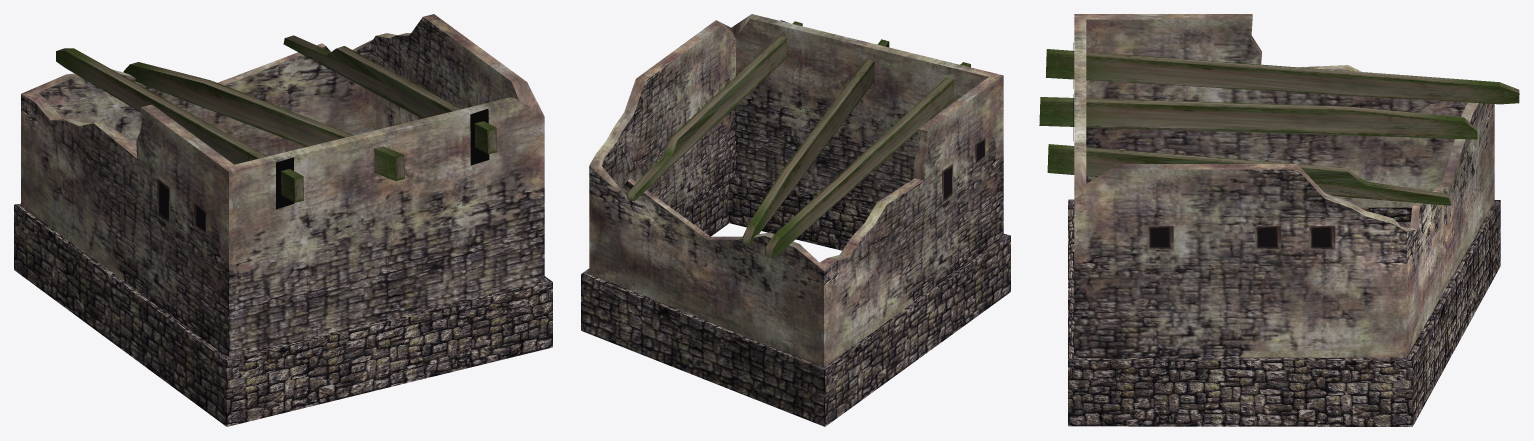
Rendered from fort_eitc_annex_1_burned.fbx.
The picture shows the model from 3 angles, left to right: view 1: azimuth 30°, elevation 25°; view 2: azimuth 150°, elevation 25°; view 3: azimuth 270°, elevation 25°; orthographic projection. The views are drawn at different scales.
Parts seen in each view (by area): view 1: shell, shell1, beam_8, beam_9, beam_7, beam_drop_shadow2, window33, beam_drop_shadow3; view 2: shell, shell1, beam_9, beam_7, beam_8, window33; view 3: shell, shell1, beam_8, beam_9, beam_7, window29, window31, window30.
Boxes of the visible parts, <box> form: shell: <box>14,14,552,426</box>; shell1: <box>38,17,518,156</box>; beam_8: <box>123,62,404,180</box>; beam_9: <box>56,48,304,202</box>; beam_7: <box>283,35,497,154</box>; beam_drop_shadow2: <box>470,108,489,165</box>; window33: <box>157,178,170,225</box>; beam_drop_shadow3: <box>276,157,294,209</box>; shell: <box>581,14,1010,426</box>; shell1: <box>602,18,988,215</box>; beam_9: <box>765,62,970,258</box>; beam_7: <box>626,21,802,201</box>; beam_8: <box>742,39,889,245</box>; window33: <box>942,163,953,204</box>; shell: <box>1068,14,1500,426</box>; shell1: <box>1086,19,1467,207</box>; beam_8: <box>1039,97,1477,139</box>; beam_9: <box>1045,49,1519,104</box>; beam_7: <box>1047,144,1451,205</box>; window29: <box>1308,226,1335,250</box>; window31: <box>1147,226,1173,250</box>; window30: <box>1254,226,1280,250</box>.
Size of the model in its own units: 3132 by 2307 by 3938.
Materials: 4 (4 with a texture image).
